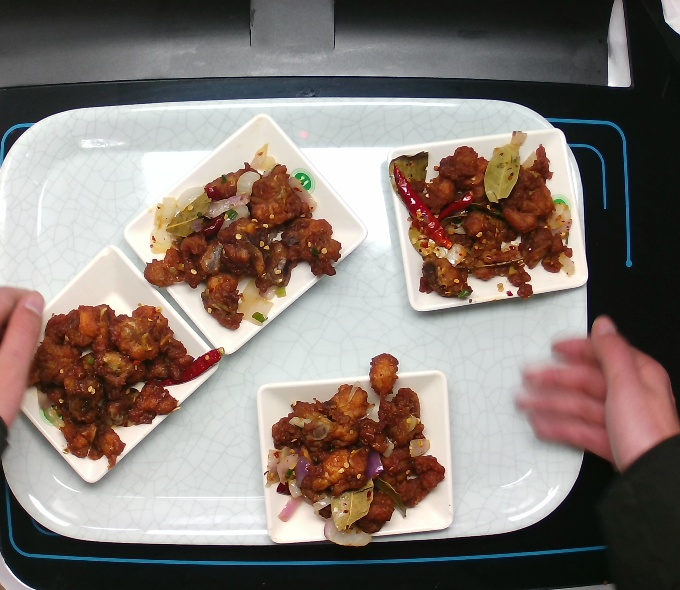wcq-LaZiJiKuai: (140, 140, 343, 333), (264, 349, 446, 553), (22, 300, 226, 475), (382, 128, 580, 303)
